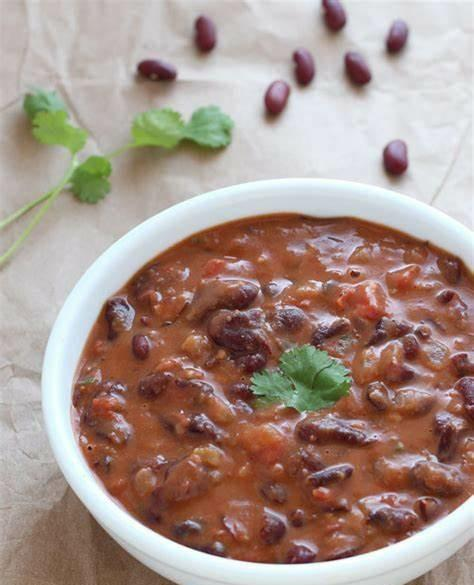RajmaCurry: (70, 218, 474, 563)
